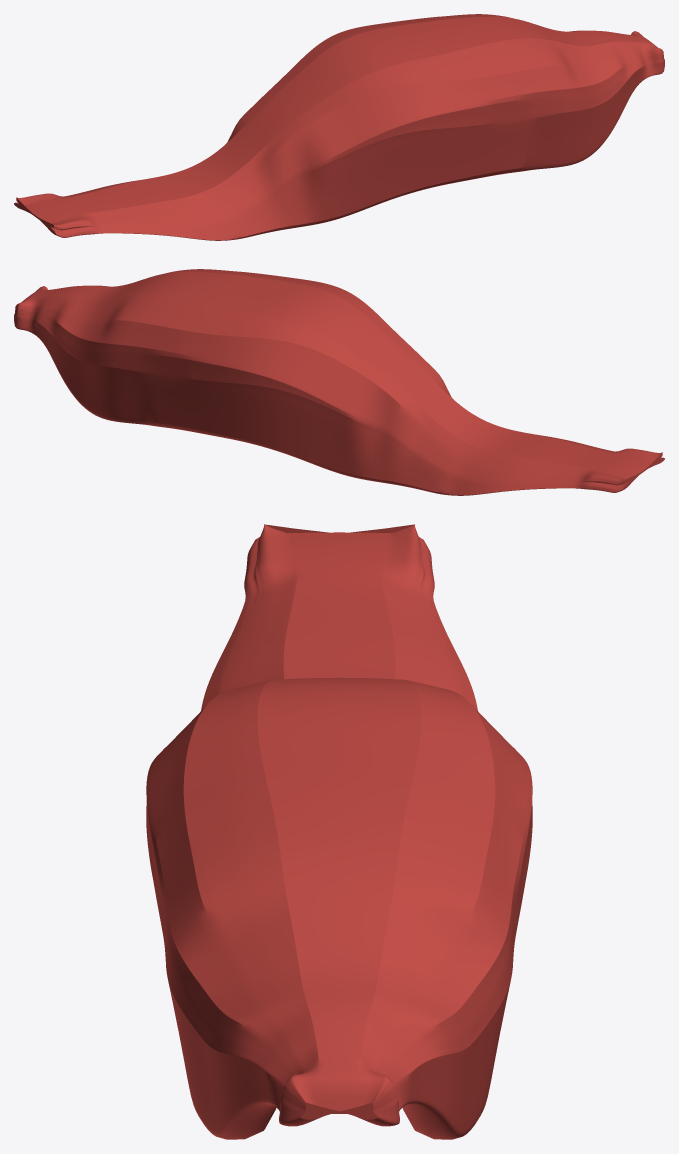
File: adventure_2.glb
The picture shows the model from 3 angles, top to bottom: view 1: azimuth 30°, elevation 25°; view 2: azimuth 150°, elevation 25°; view 3: azimuth 270°, elevation 25°; orthographic projection. The views are drawn at different scales.
Parts seen in each view (by area): view 1: adventure_2; view 2: adventure_2; view 3: adventure_2.
Part boxes in pixels (box(x1,y1,x2,y2)): adventure_2: box(14, 14, 664, 240); adventure_2: box(14, 269, 664, 495); adventure_2: box(146, 524, 532, 1139).
Bounding box in the file's own units: 1.61 × 0.3275 × 0.4348.
